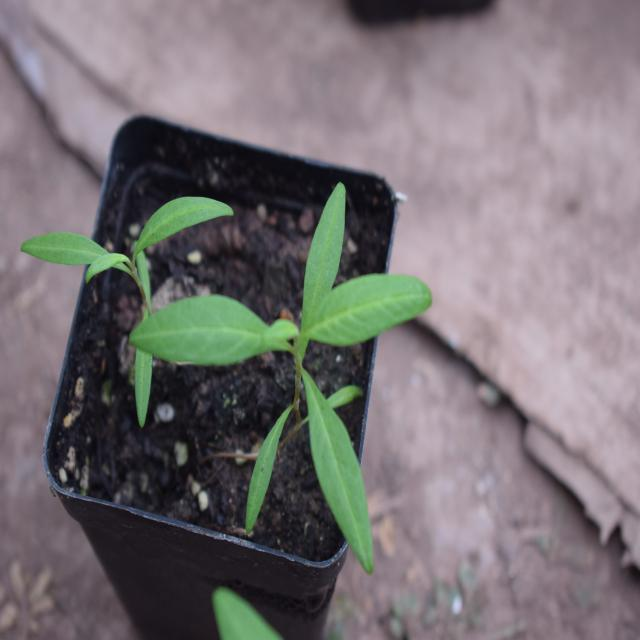white_smart_weed: (86, 207, 443, 567), (14, 160, 237, 340)
